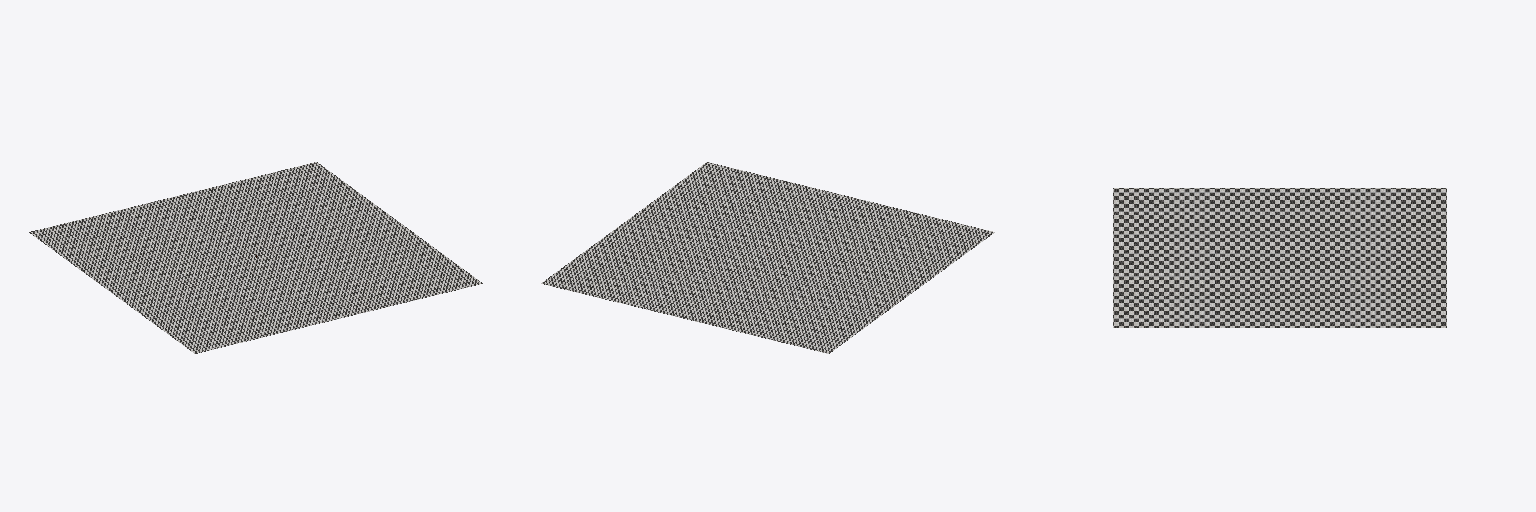
3 views of the same model, side by side, from view 1: azimuth 30°, elevation 25°; view 2: azimuth 150°, elevation 25°; view 3: azimuth 270°, elevation 25° (orthographic).
Visible parts, largest first — view 1: Floor_Plane.000; view 2: Floor_Plane.000; view 3: Floor_Plane.000.
Part boxes in pixels (bbox=[...]): Floor_Plane.000: bbox=[29, 162, 482, 353]; Floor_Plane.000: bbox=[541, 162, 994, 353]; Floor_Plane.000: bbox=[1113, 188, 1446, 327].
Bounding box in the file's own units: 1000 × 13.01 × 1000.
3 materials, 1 textured.